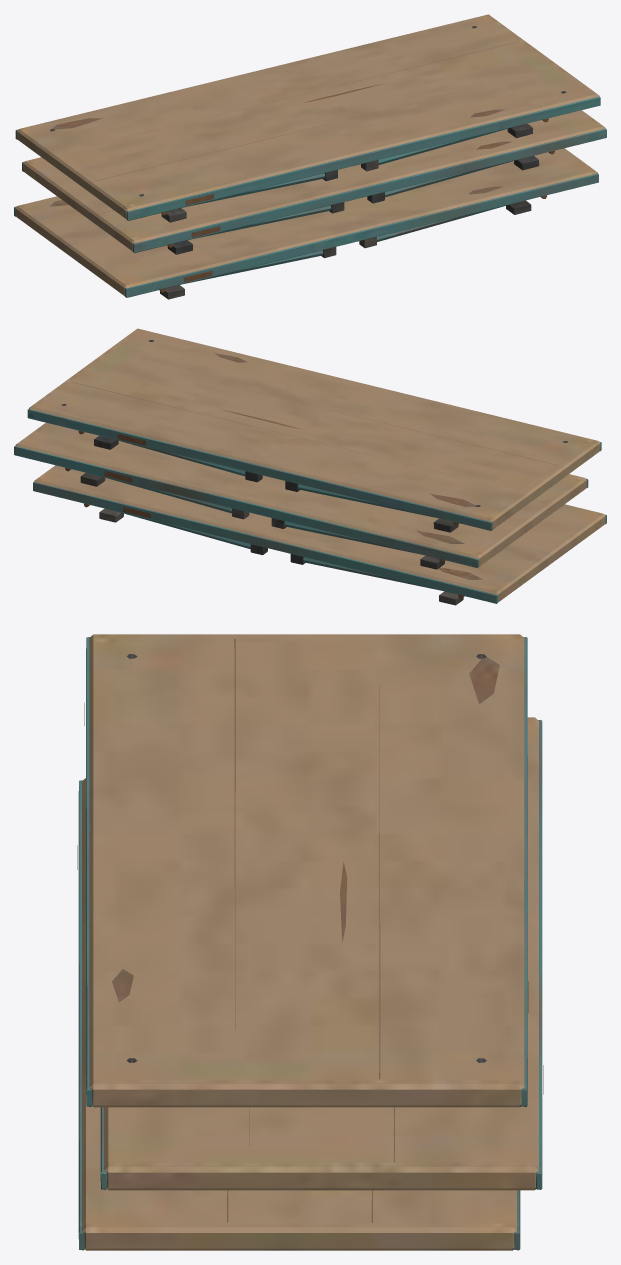
Rendered from Q17_folding_tables.glb.
The picture shows the model from 3 angles, top to bottom: view 1: azimuth 30°, elevation 25°; view 2: azimuth 150°, elevation 25°; view 3: azimuth 270°, elevation 25°; orthographic projection. The views are drawn at different scales.
Parts seen in each view (by area): view 1: Tabletop solid timber; view 2: Tabletop solid timber; view 3: Tabletop solid timber.
Part boxes in pixels (<box>): Tabletop solid timber: <box>14,14,606,299</box>; Tabletop solid timber: <box>14,328,606,605</box>; Tabletop solid timber: <box>77,634,543,1250</box>.
Size of the model in its own units: 1.8 by 0.3923 by 0.7607.
6 materials, 6 textured.
